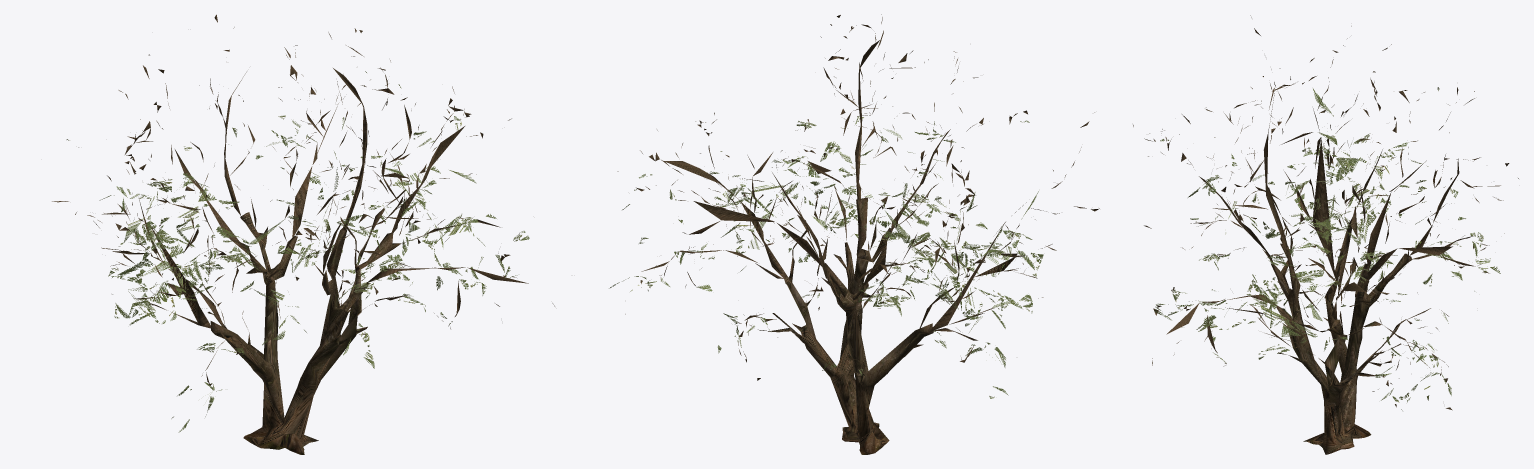
The model's file is jacaranda_tree.light.glb.
3 renders of one model, left to right at view 1: azimuth 30°, elevation 25°; view 2: azimuth 150°, elevation 25°; view 3: azimuth 270°, elevation 25°, orthographic. The views are drawn at different scales.
Parts seen in each view (by area): view 1: jacaranda_tree_LOD0; view 2: jacaranda_tree_LOD0; view 3: jacaranda_tree_LOD0.
Boxes of the visible parts, box(x1,y1,x2,y2) form: jacaranda_tree_LOD0: box(52, 14, 554, 454); jacaranda_tree_LOD0: box(609, 14, 1099, 454); jacaranda_tree_LOD0: box(1133, 15, 1518, 454).
Size of the model in its own units: 3.78 by 3.12 by 2.83.
3 materials, 3 textured.
